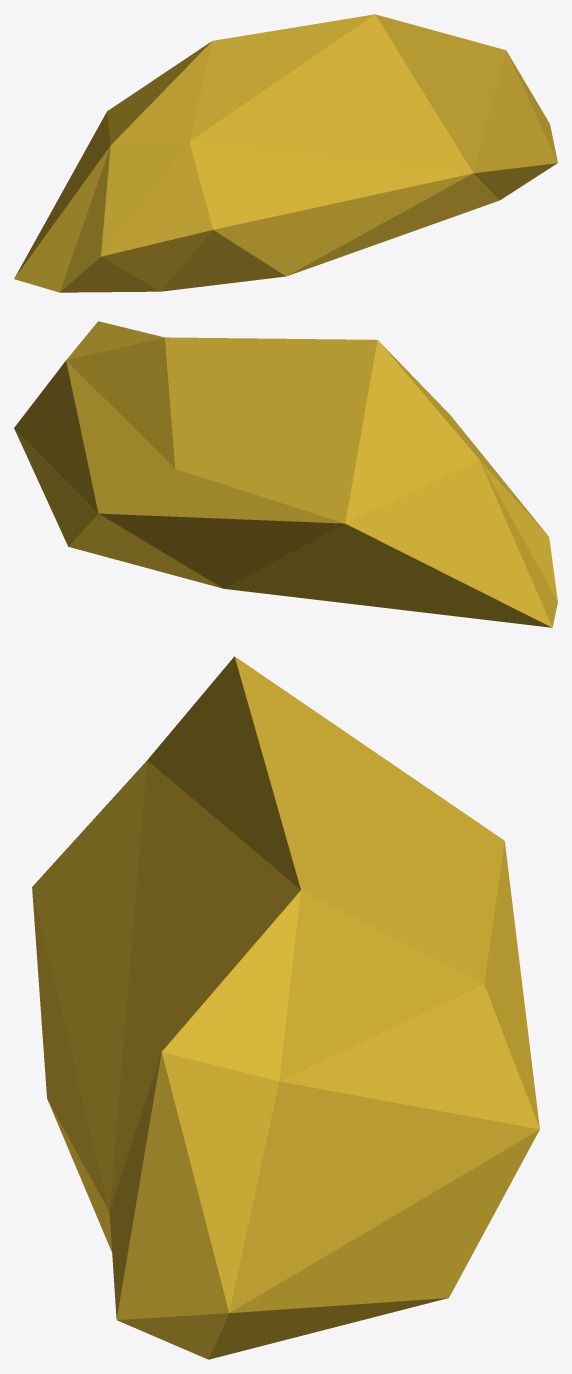
The model's file is co_Bush03_B.fbx.
The picture shows the model from 3 angles, top to bottom: view 1: azimuth 30°, elevation 25°; view 2: azimuth 150°, elevation 25°; view 3: azimuth 270°, elevation 25°; orthographic projection. The views are drawn at different scales.
Parts seen in each view (by area): view 1: Bush03_B; view 2: Bush03_B; view 3: Bush03_B.
Part boxes in pixels (x1,y1,x2,y2): Bush03_B: (14,14,557,292); Bush03_B: (14,321,557,627); Bush03_B: (32,656,539,1359).
Size of the model in its own units: 12.49 by 4.81 by 5.32.
